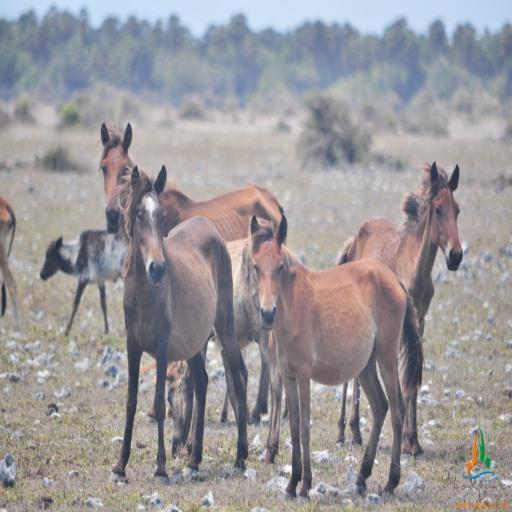horse: (94, 119, 287, 424), (250, 210, 426, 505), (104, 162, 250, 484), (336, 158, 465, 462), (166, 238, 299, 464)
